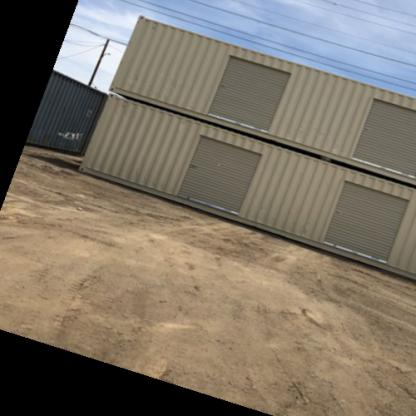Damage: (213, 73, 231, 92), (184, 156, 202, 172)
